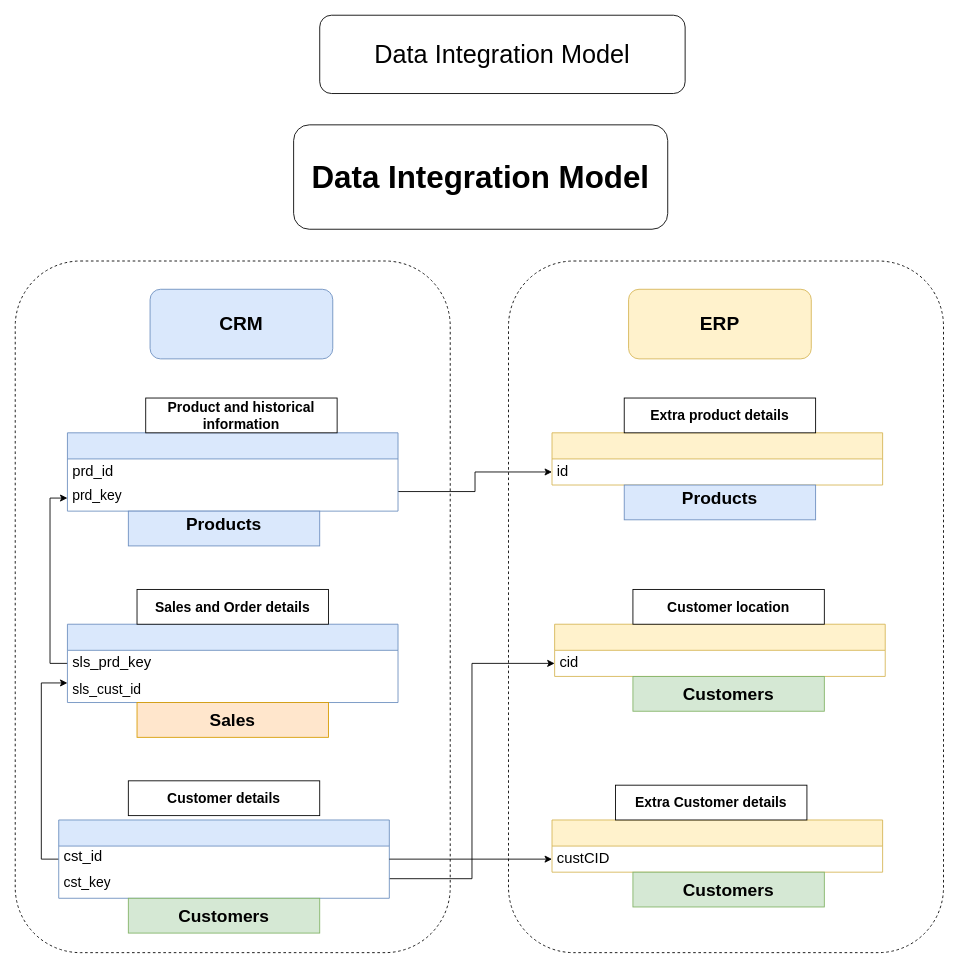
This 959x968 diagram has some shape labels left out. The shapes that lost their labels are listed below. From the top down, each one's box as (x1, y1, x2, y2) in pixels, then its label:
(67, 432, 398, 511): crm_prd_info
(551, 432, 883, 485): erp_px_cat_g1v2
(67, 623, 398, 703): crm_sales_details
(554, 623, 885, 676): erp_loc_a101
(58, 819, 389, 898): crm_cust_info
(551, 819, 883, 872): erp_cust_az12
